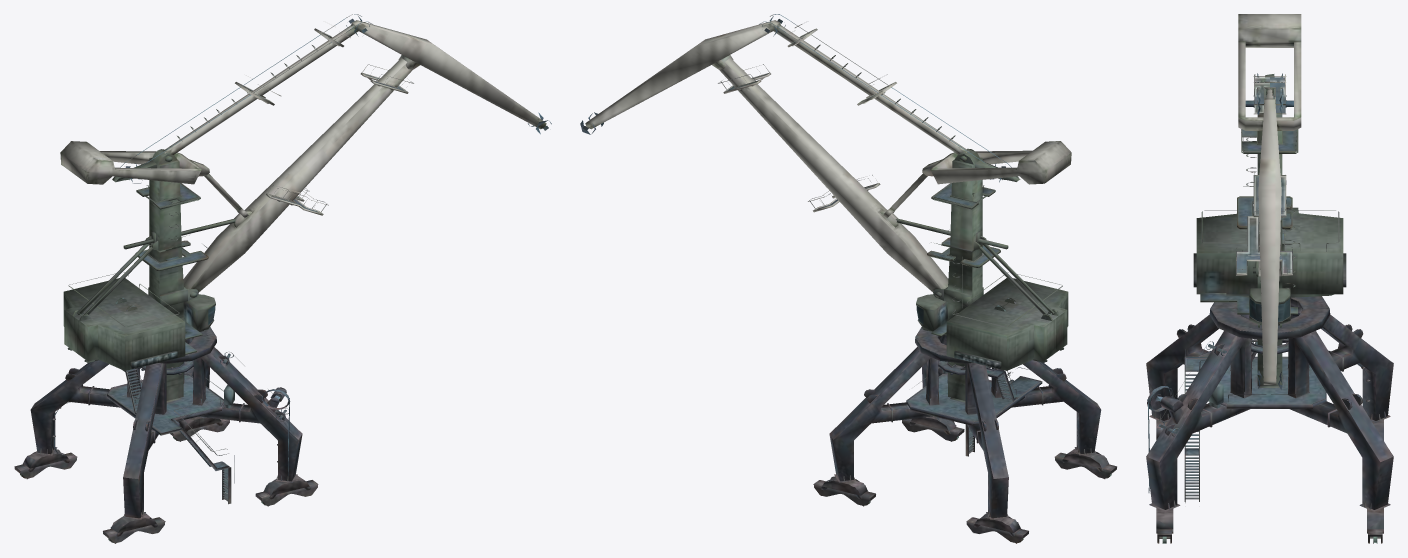
Rendered from a10_crane.glb.
3 views of the same model, side by side, from view 1: azimuth 30°, elevation 25°; view 2: azimuth 150°, elevation 25°; view 3: azimuth 270°, elevation 25° (orthographic). The views are drawn at different scales.
Visible parts, largest first — view 1: body; view 2: body; view 3: body.
Boxes of the visible parts, bbox=[...] form: body: bbox=[14, 14, 551, 543]; body: bbox=[580, 14, 1116, 543]; body: bbox=[1146, 14, 1393, 543].
Bounding box in the file's own units: 0.9989 × 0.828 × 0.3688.
Materials: 1 (1 with a texture image).
